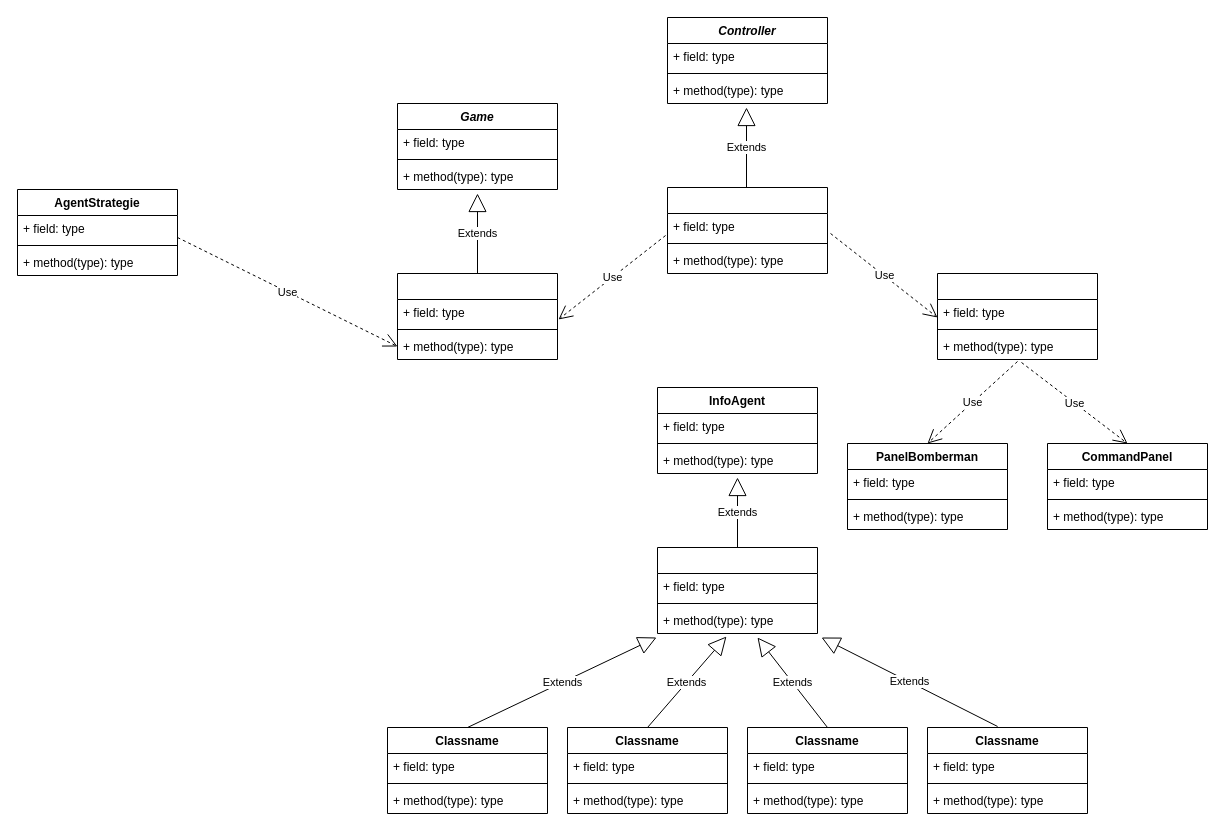
The diagram is 1225 pixels wide and 834 high, and some of its shapes have lost their labels. Each missing label, with the box of its shape:
AbstractAgent: (656, 546, 818, 634)
BombermanController: (666, 186, 828, 274)
BombermanGame: (396, 272, 558, 360)
BombermanView: (936, 272, 1098, 360)
